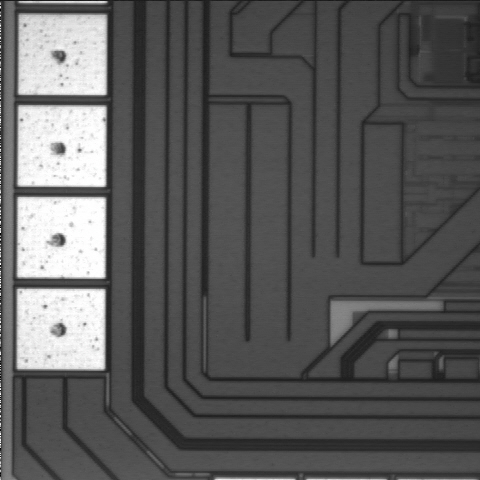pad: (17, 197, 106, 279), (18, 105, 106, 187), (17, 289, 105, 370), (18, 15, 107, 95)
